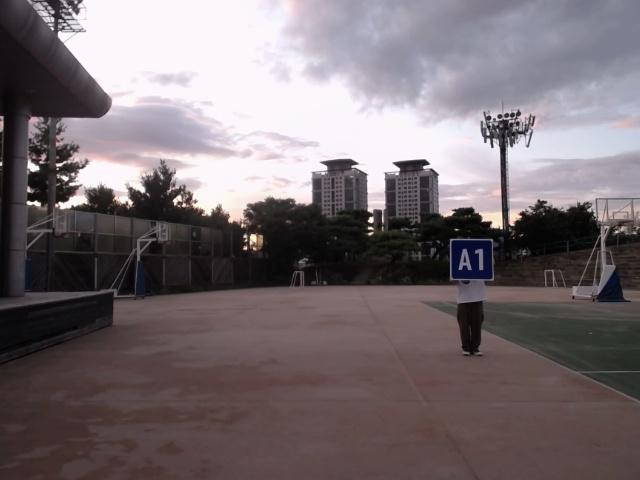delivery_a1: (450, 239, 494, 280)
